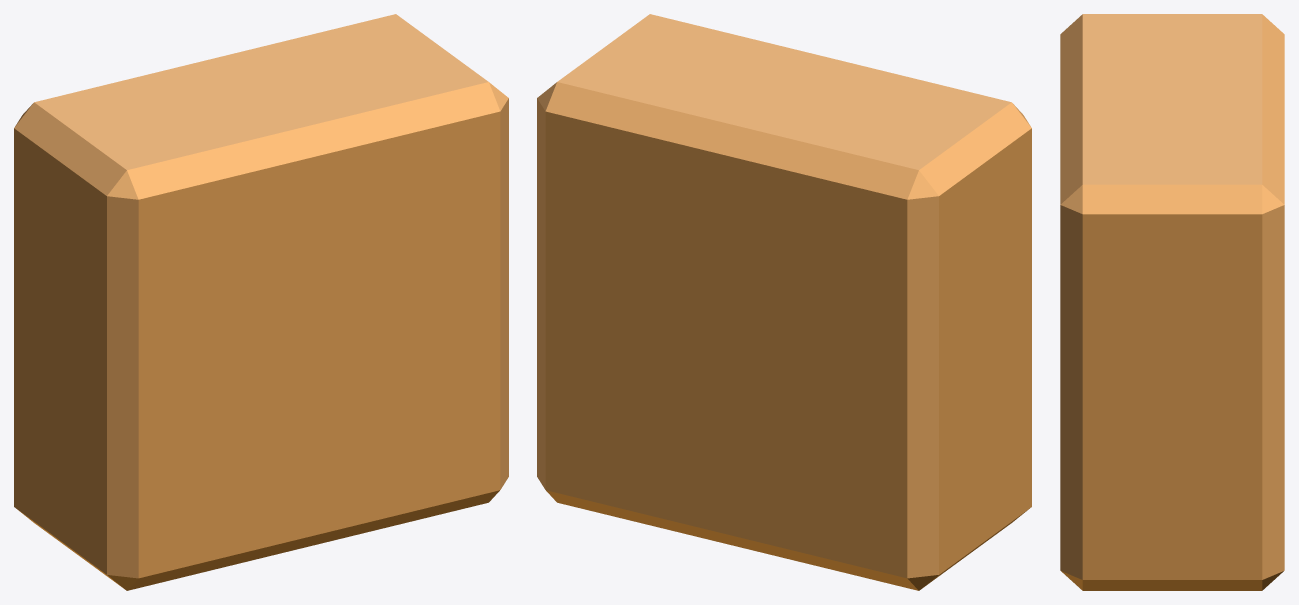
The model's file is m_kub_clay_halfBig.FBX.
The picture shows the model from 3 angles, left to right: view 1: azimuth 30°, elevation 25°; view 2: azimuth 150°, elevation 25°; view 3: azimuth 270°, elevation 25°; orthographic projection. The views are drawn at different scales.
Parts seen in each view (by area): view 1: m_kub_clay_halfBig; view 2: m_kub_clay_halfBig; view 3: m_kub_clay_halfBig.
Boxes of the visible parts, x1=… form: m_kub_clay_halfBig: x1=14, y1=14, x2=508, y2=590; m_kub_clay_halfBig: x1=537, y1=14, x2=1031, y2=590; m_kub_clay_halfBig: x1=1060, y1=14, x2=1284, y2=590.
Size of the model in its own units: 2 by 2 by 1.
